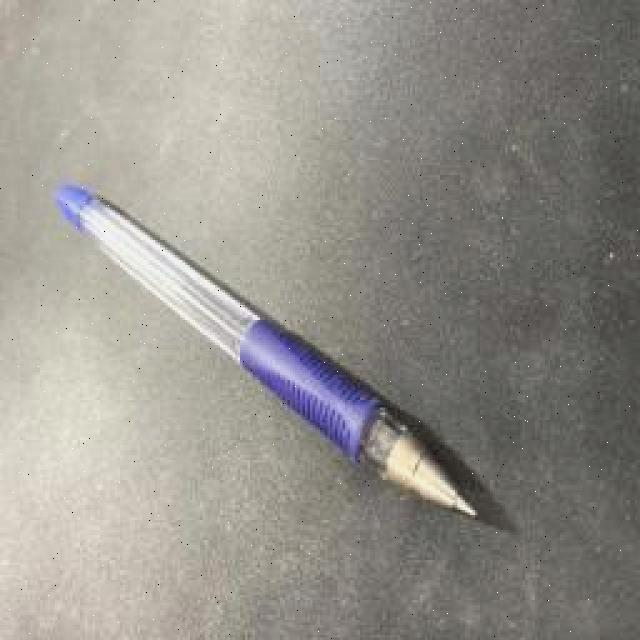pen: (52, 175, 480, 520)
